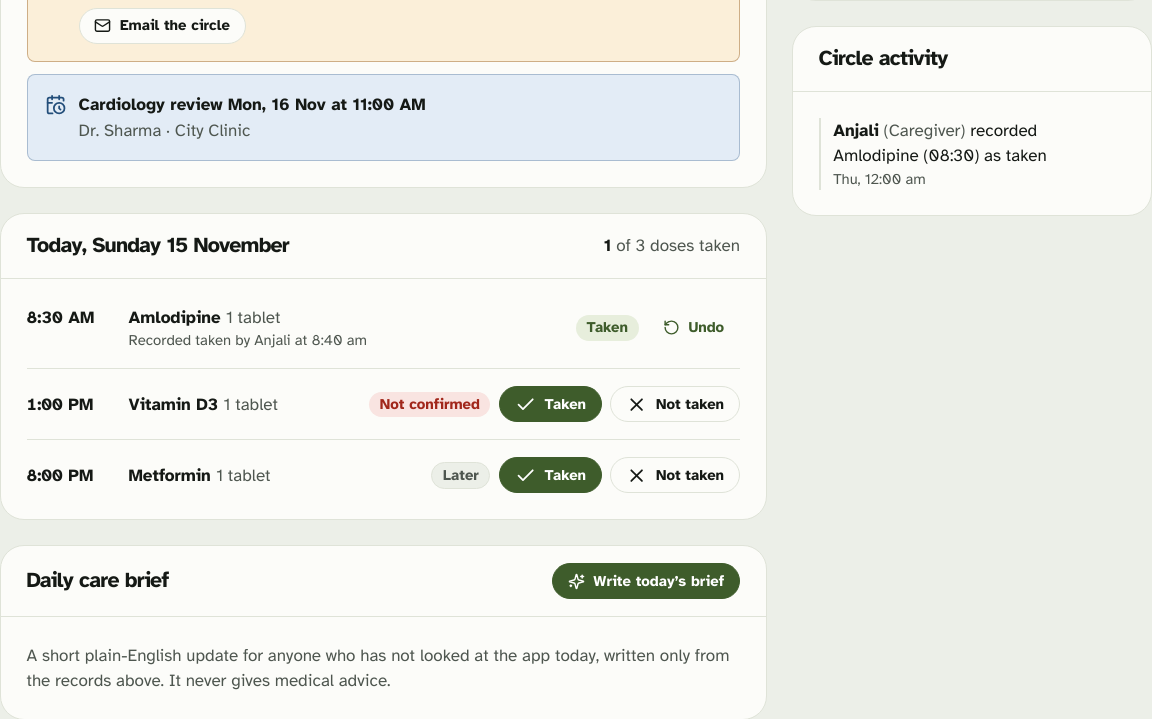
Test case: Today (family and caregivers) › when the AI is unavailable the fallback is labelled as such
(page scrolled)
Click the button "Write today’s brief" at (646, 581), box 552,563 -> 740,599
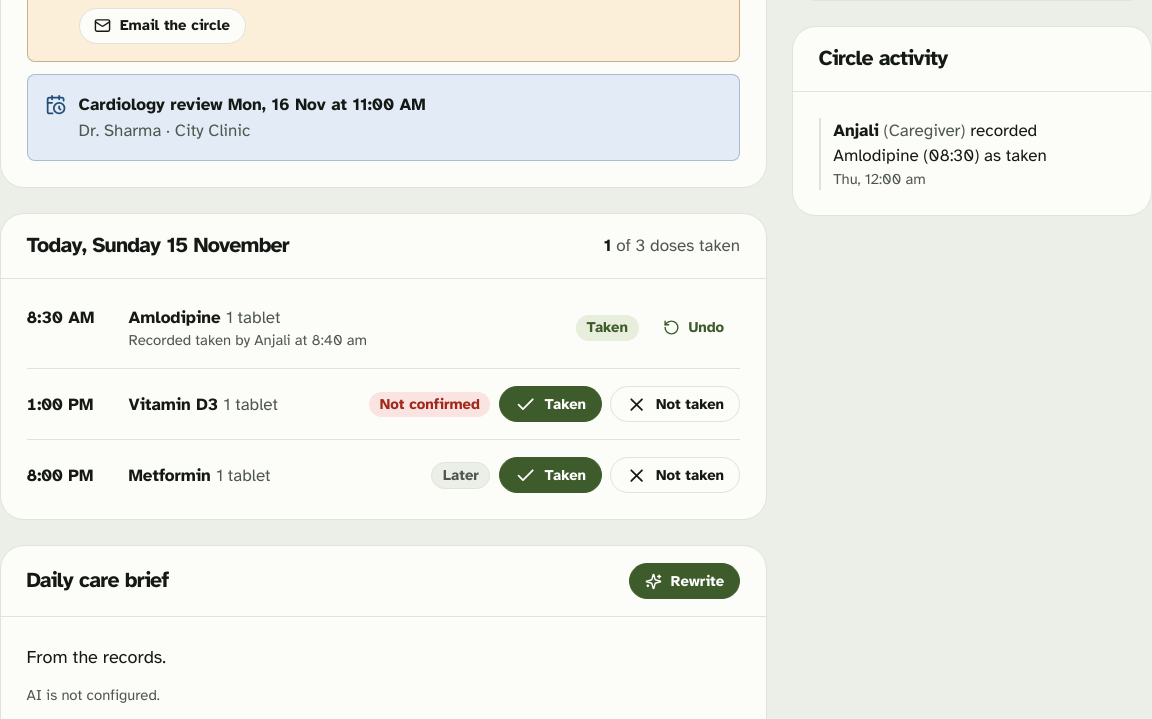
Result: the text "AI is not configured." is shown at 26,686 -> 160,704
